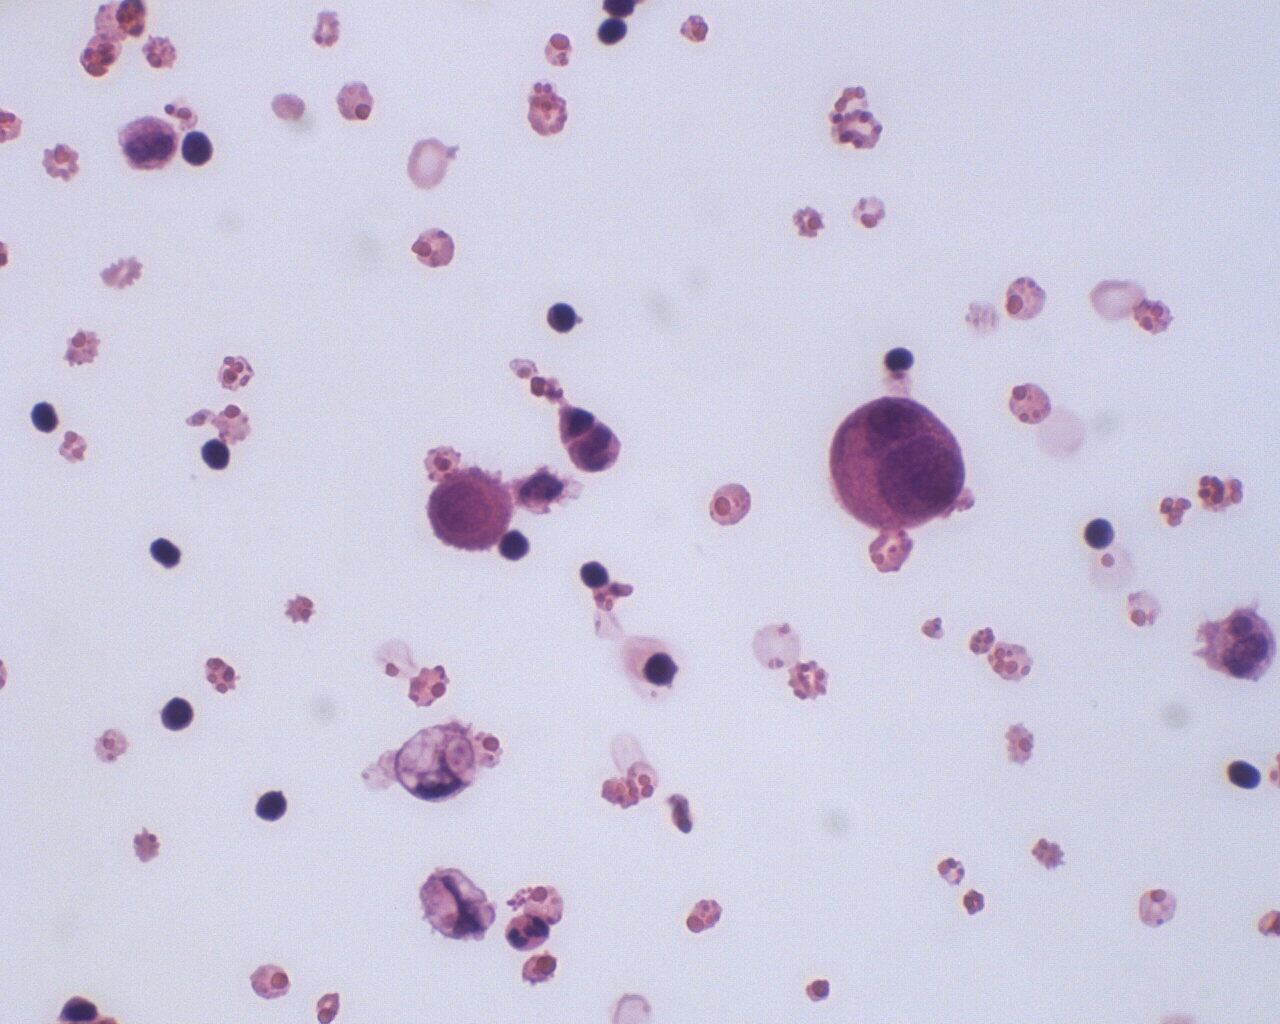ab: (821, 392, 969, 535), (424, 465, 516, 552)
lymph: (1080, 512, 1123, 561), (1221, 751, 1266, 795), (174, 126, 217, 170), (157, 690, 199, 735), (575, 552, 616, 591), (250, 786, 290, 825), (195, 436, 239, 472), (26, 395, 63, 436), (545, 296, 577, 338)
neutro: (499, 912, 554, 956)
